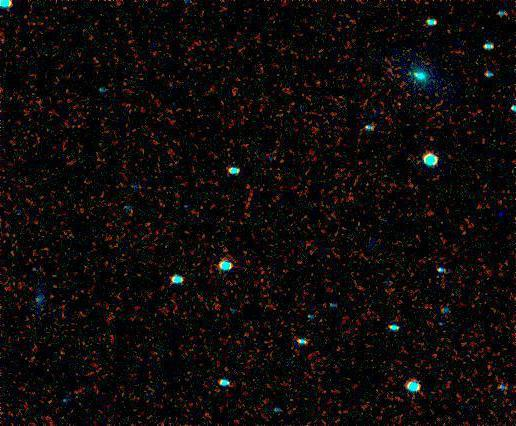star: (486, 200, 516, 230)
